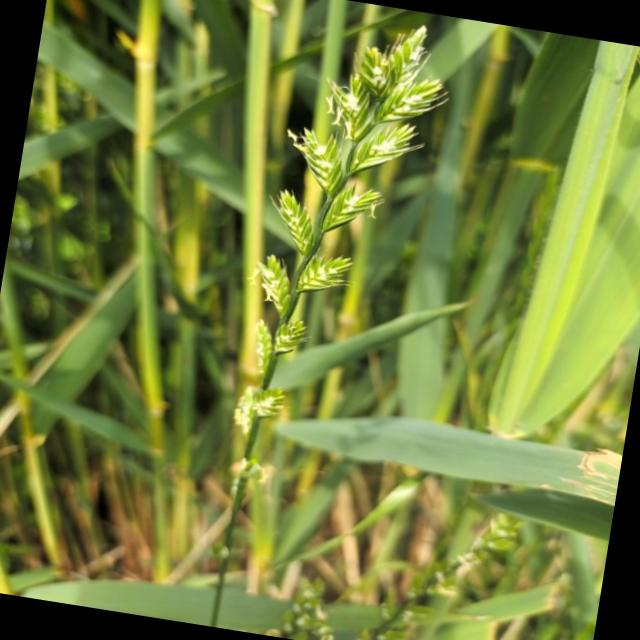Lolium: (202, 2, 463, 584)
